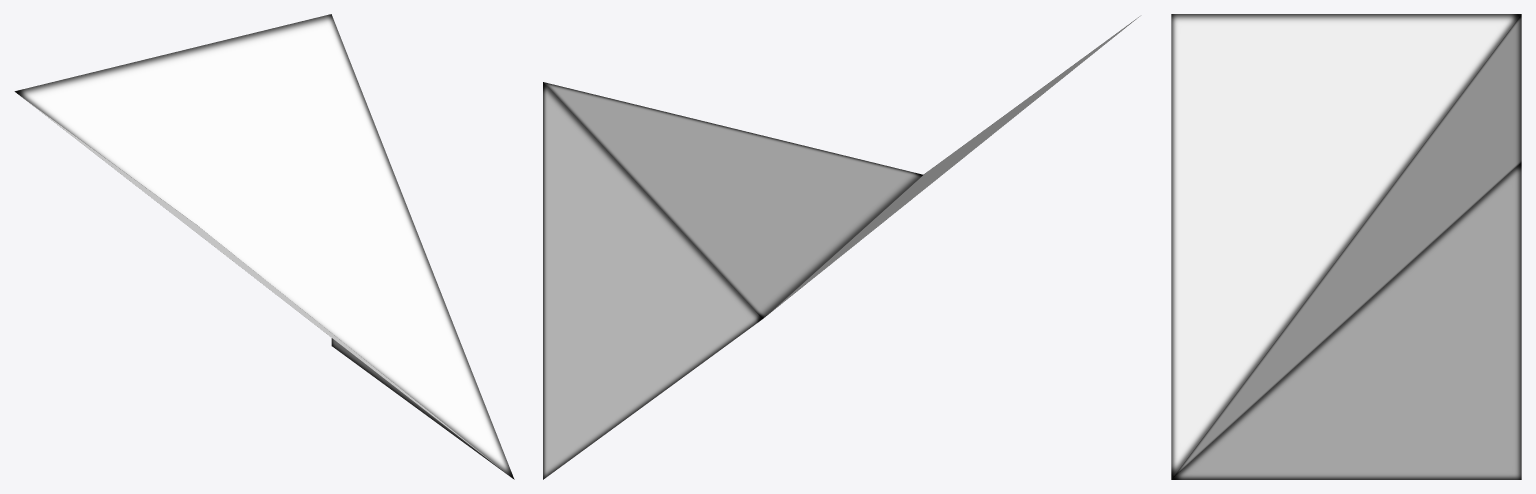
The model's file is corner_2-slope_inside_1-side.fbx.
3 renders of one model, left to right at view 1: azimuth 30°, elevation 25°; view 2: azimuth 150°, elevation 25°; view 3: azimuth 270°, elevation 25°, orthographic. The views are drawn at different scales.
Parts seen in each view (by area): view 1: corner_2-slope_inside_1-side; view 2: corner_2-slope_inside_1-side; view 3: corner_2-slope_inside_1-side.
Part boxes in pixels (x1,y1,x2,y2): corner_2-slope_inside_1-side: [14, 14, 514, 479]; corner_2-slope_inside_1-side: [543, 16, 1139, 479]; corner_2-slope_inside_1-side: [1171, 14, 1521, 479].
Bounding box in the file's own units: 100 × 100 × 100.
